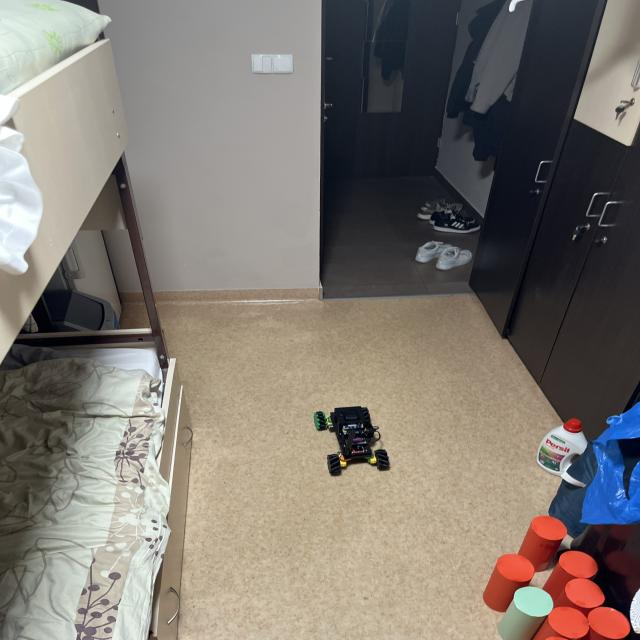robot: (312, 406, 390, 475)
